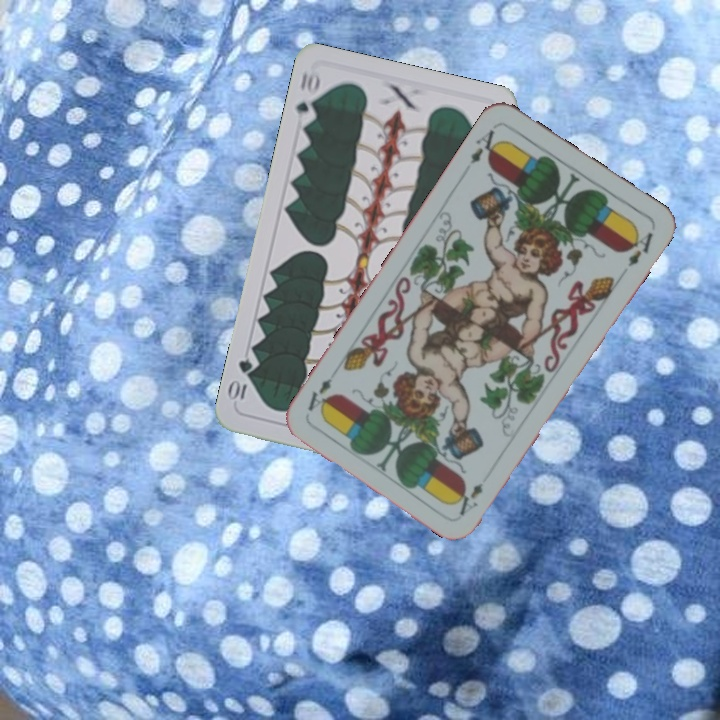EA: (466, 126, 504, 167), (455, 478, 486, 519)
G10: (291, 67, 323, 128)
